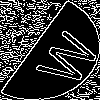W: (25, 25, 100, 89)
